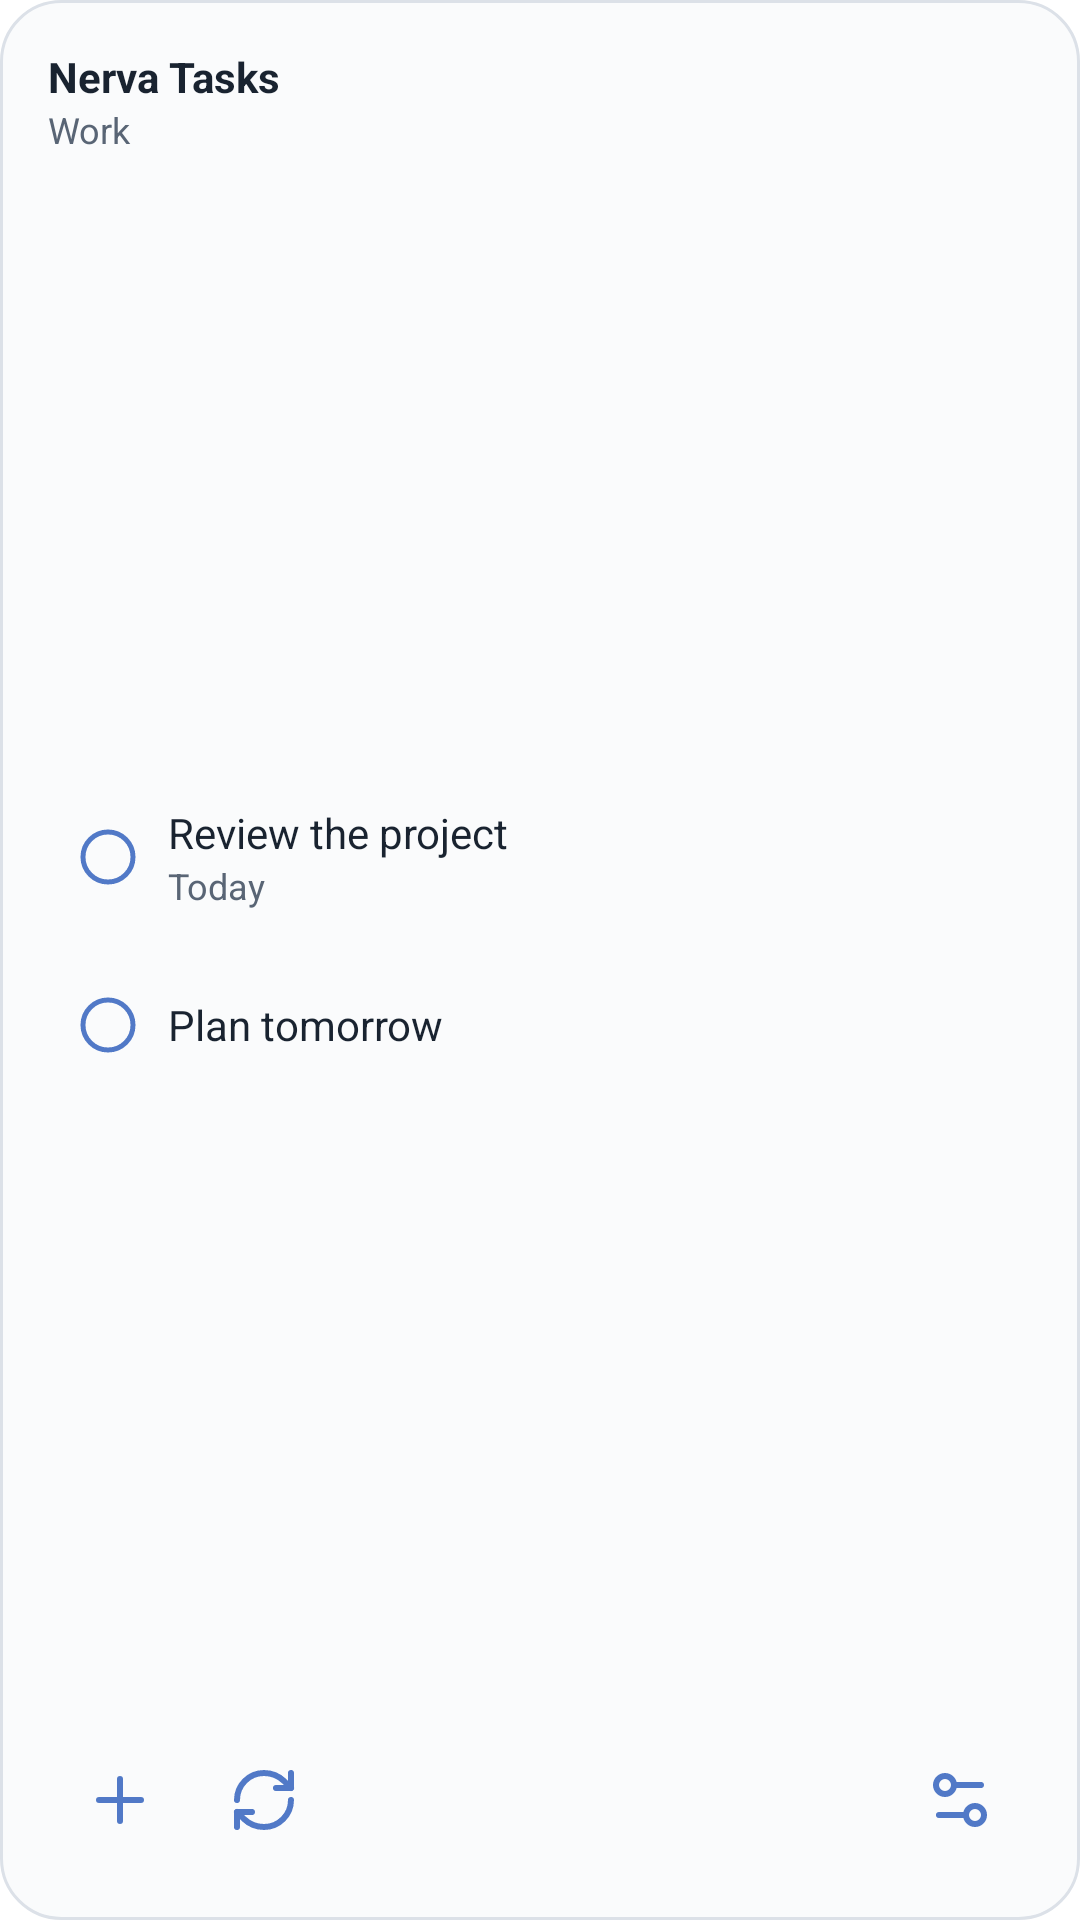

Screen size 1080px x 1920px. Icon name, then its center in pixels as [x,y]:
Add task: [120,1800]
Complete task: [108,857], [108,1025]
Configure widget: [960,1800]
Refresh widget: [264,1800]
